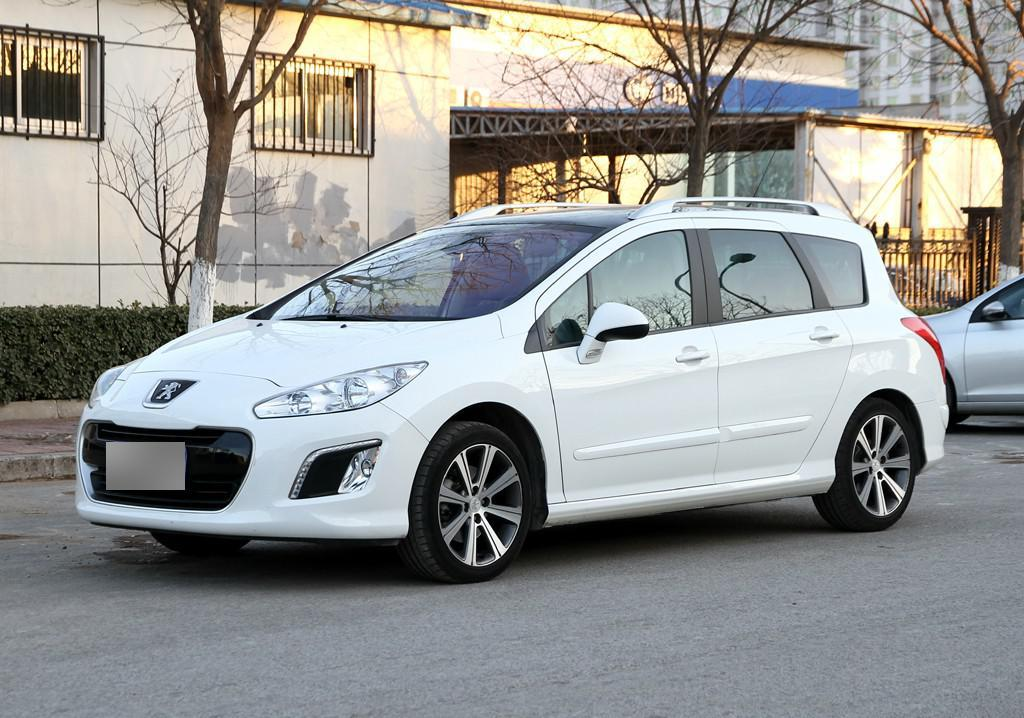Wagon: (72, 194, 948, 586)
